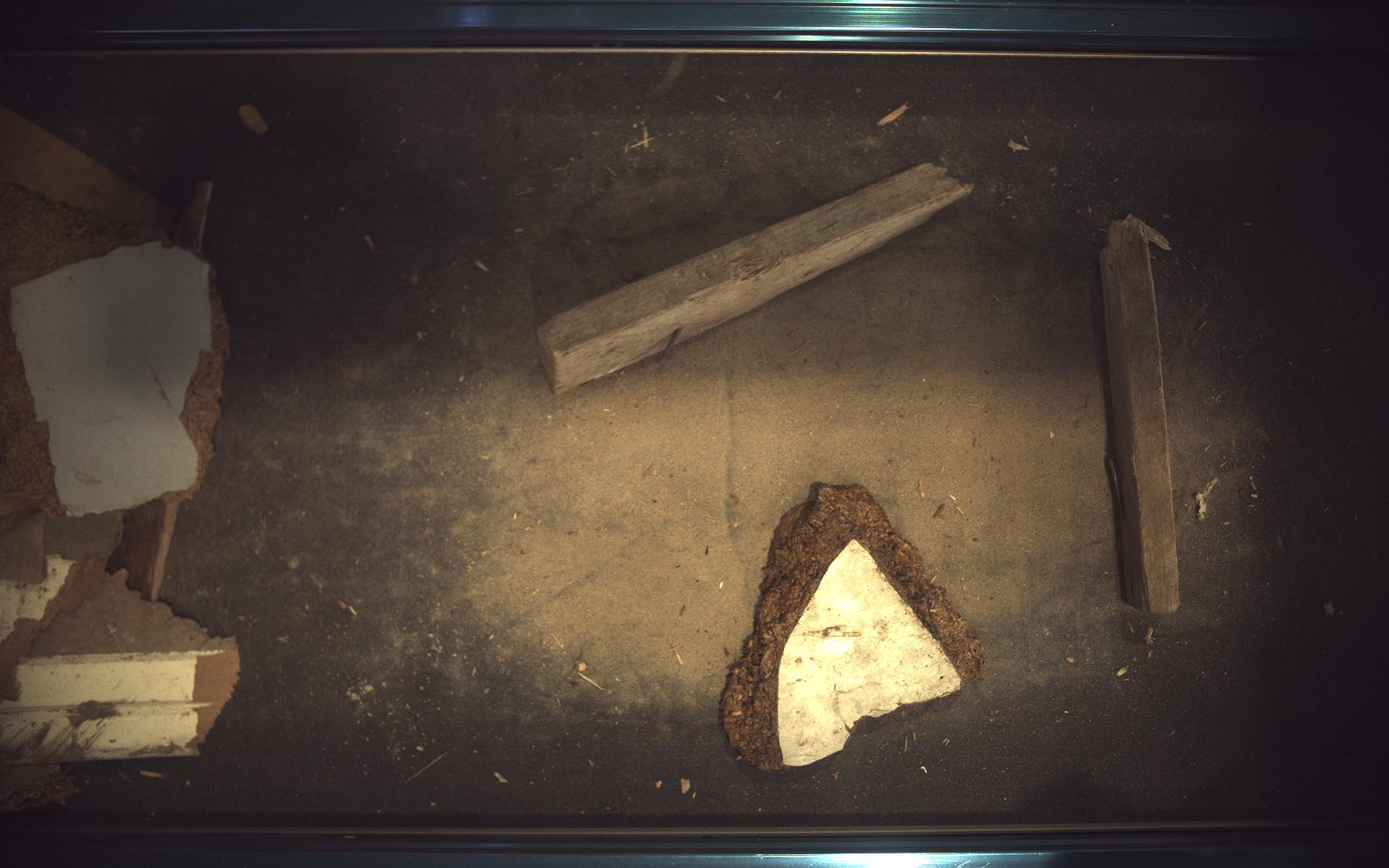wood: (538, 163, 974, 393), (1, 108, 227, 517), (721, 484, 986, 773), (1, 556, 239, 767), (1103, 214, 1182, 614), (1, 105, 173, 229), (107, 495, 180, 601), (1, 493, 46, 586), (43, 512, 122, 562), (171, 179, 212, 255)
